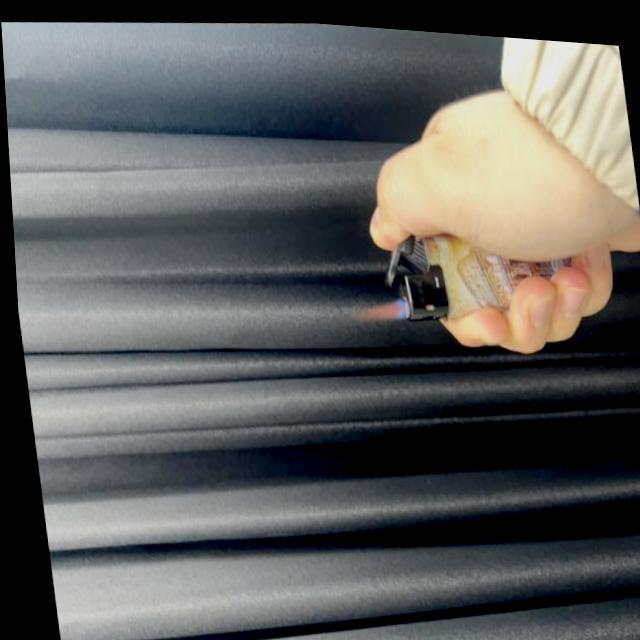helmet: (347, 289, 405, 321)
